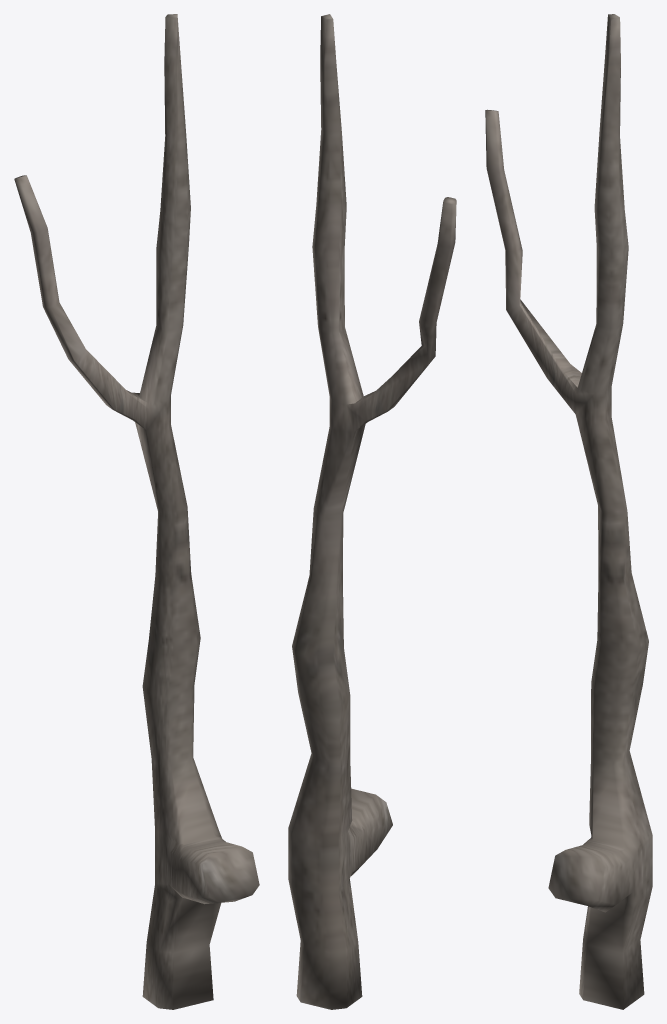
File: stick.fbx
3 renders of one model, left to right at view 1: azimuth 30°, elevation 25°; view 2: azimuth 150°, elevation 25°; view 3: azimuth 330°, elevation 25°, orthographic.
Visible parts, largest first — view 1: Box001; view 2: Box001; view 3: Box001.
Boxes of the visible parts, <box> form: Box001: <box>14,14,259,1009</box>; Box001: <box>288,14,456,1009</box>; Box001: <box>485,14,652,1009</box>.
Bounding box in the file's own units: 6.08 × 31.89 × 4.15.
1 material, 1 textured.
